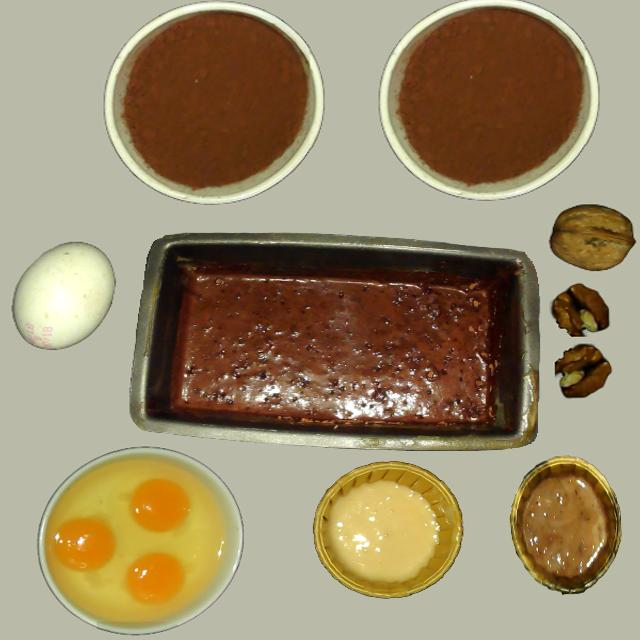Cocoa: (394, 7, 584, 188), (123, 11, 307, 192)
Egg: (53, 518, 116, 571), (130, 480, 190, 532), (126, 552, 184, 604)
Walnut: (550, 204, 634, 272)
